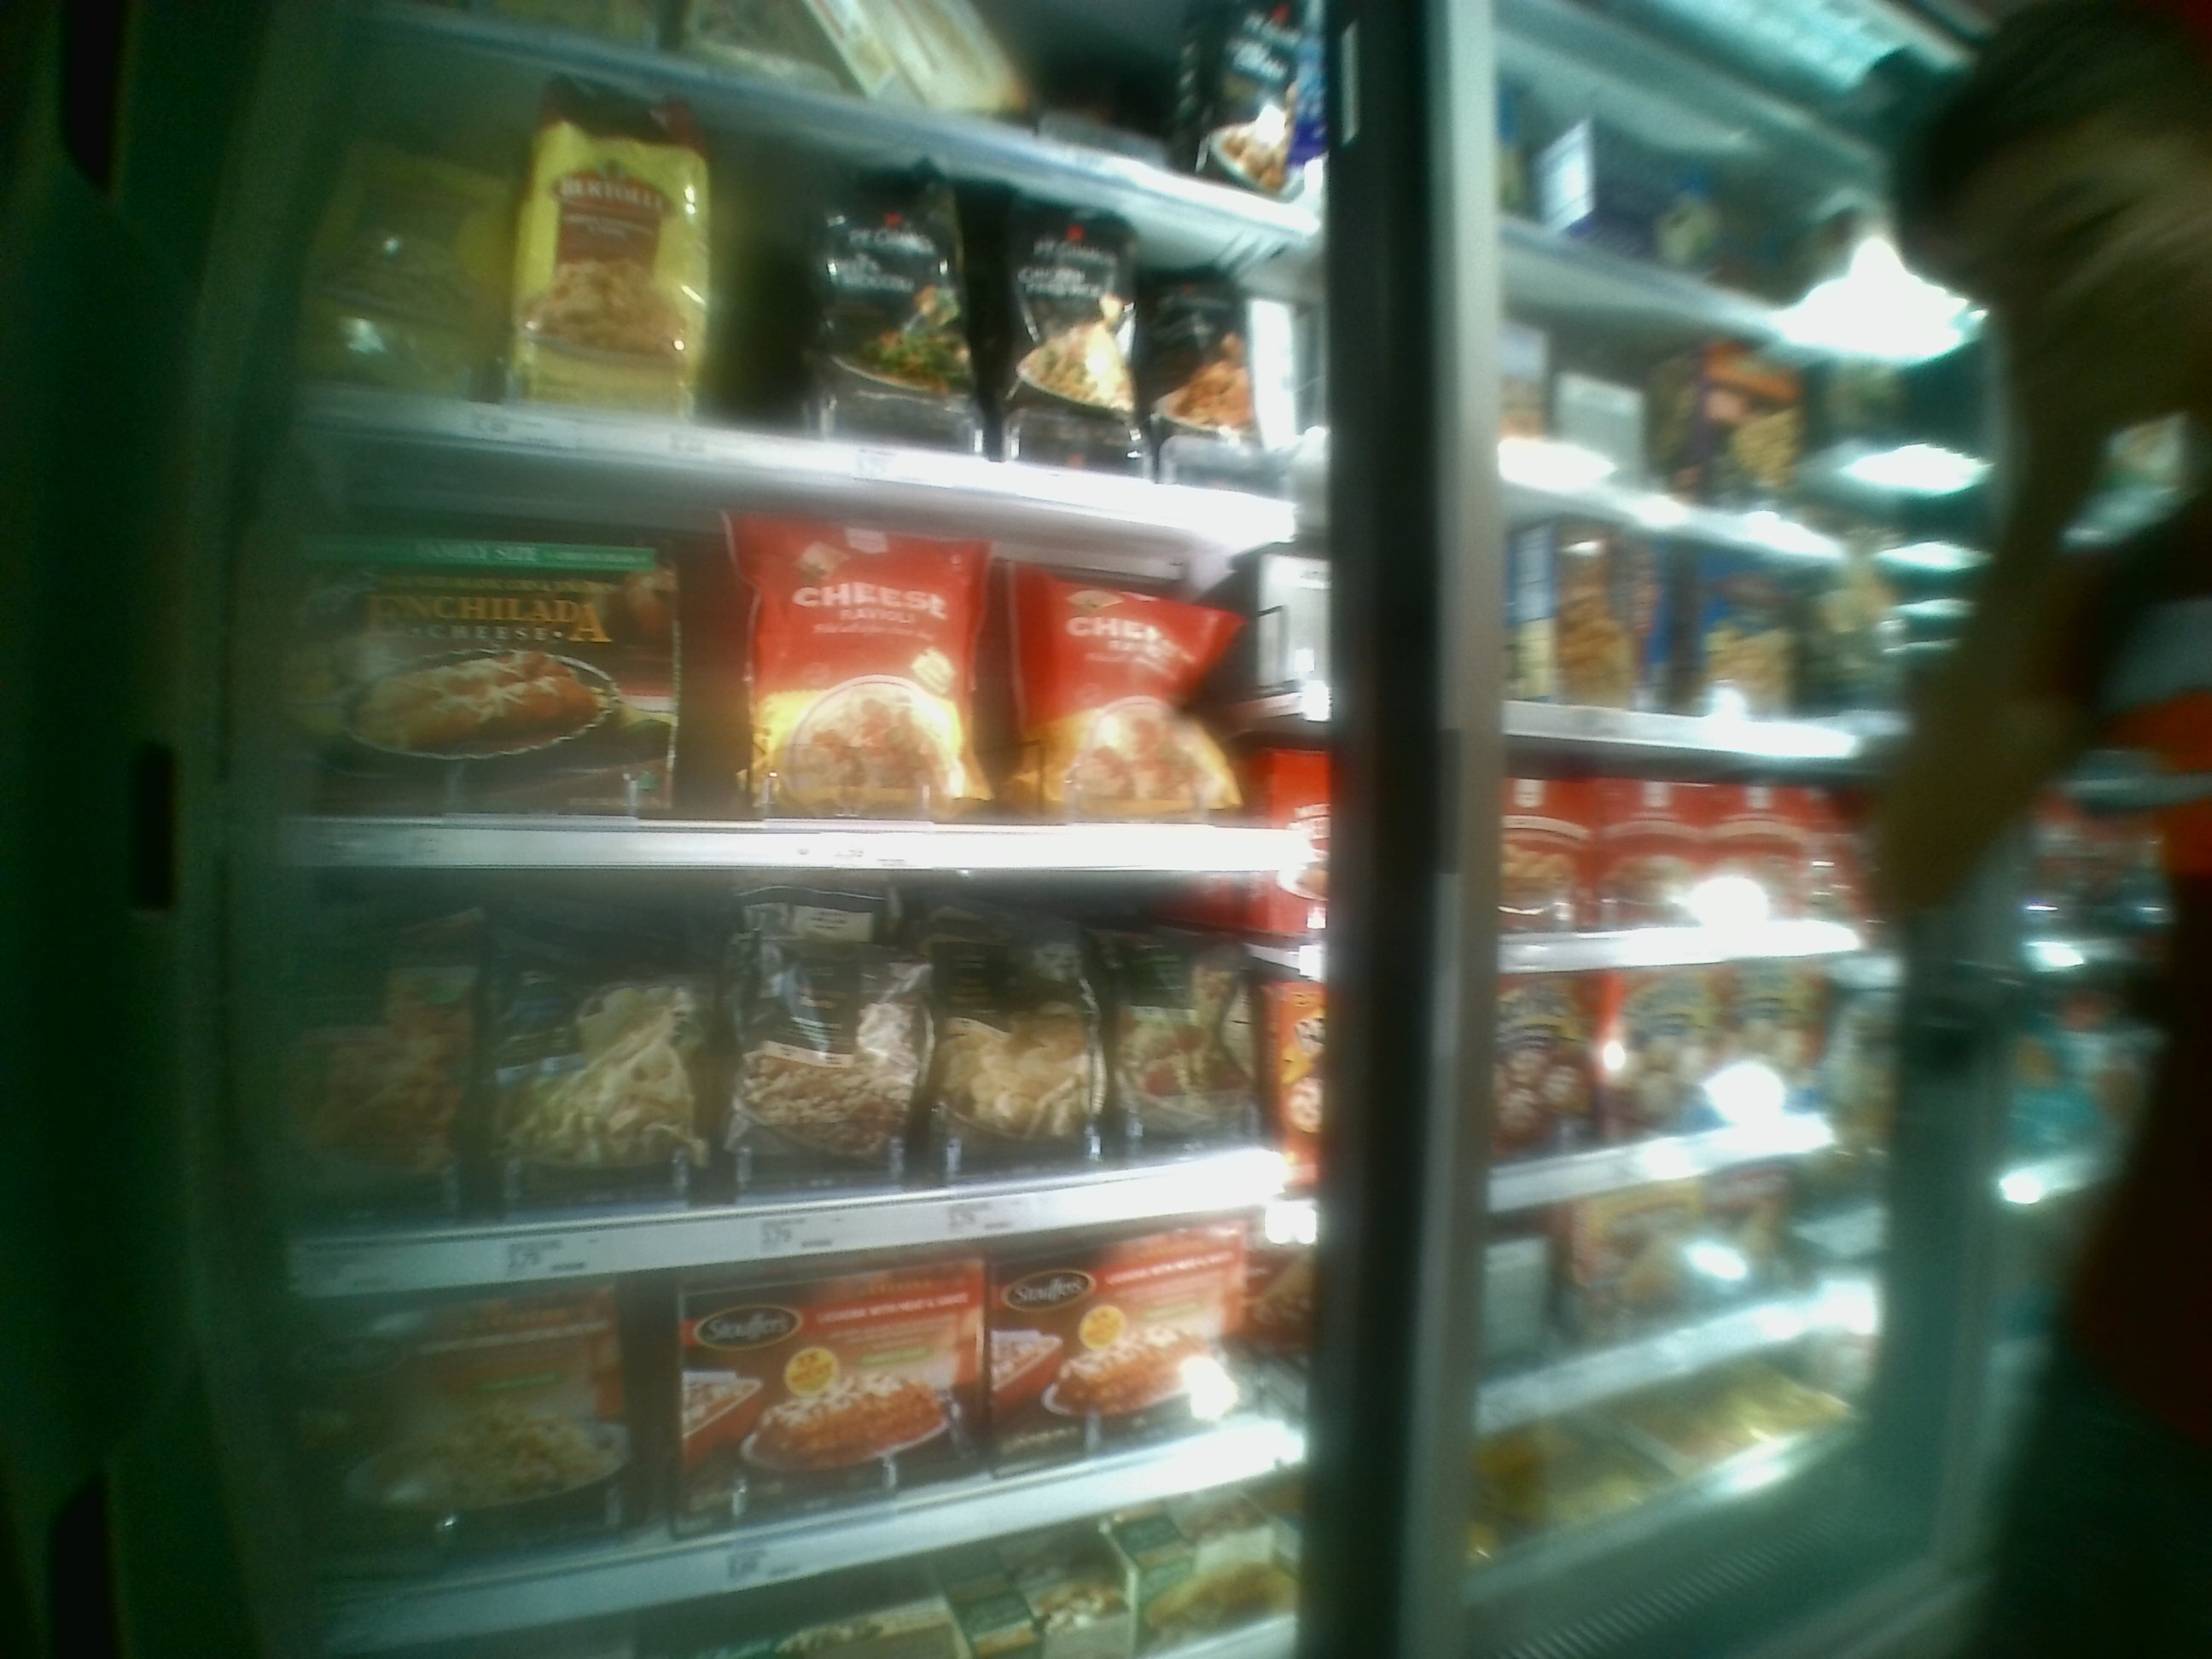shelf: (270, 847, 1305, 1213)
